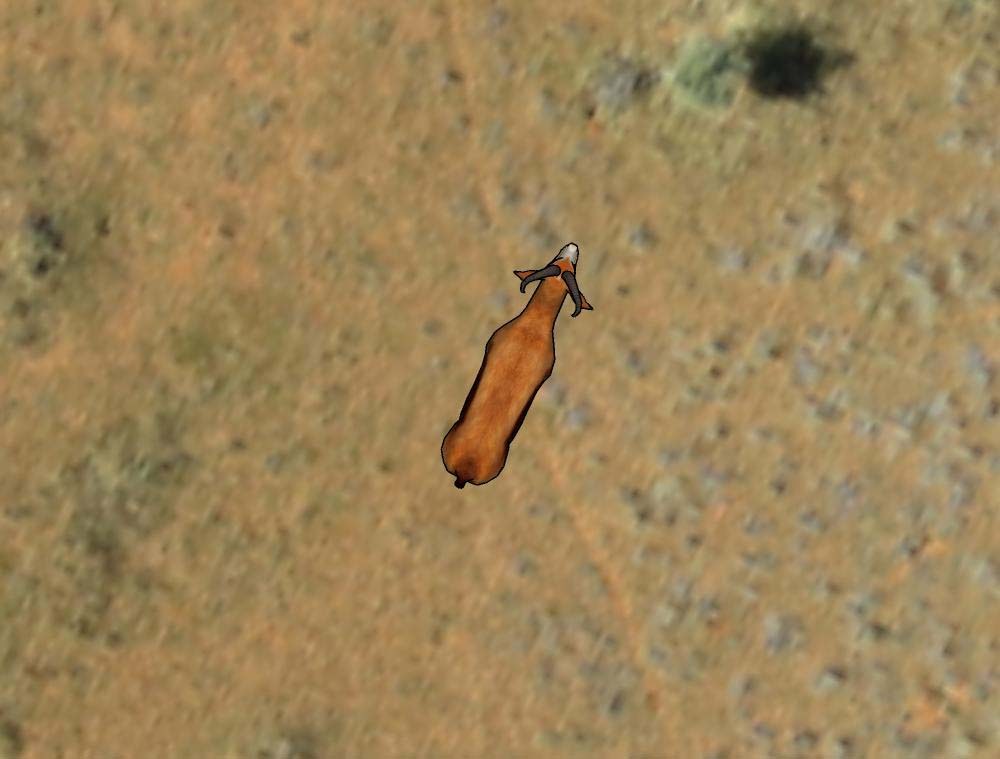springbok: (438, 230, 591, 499)
